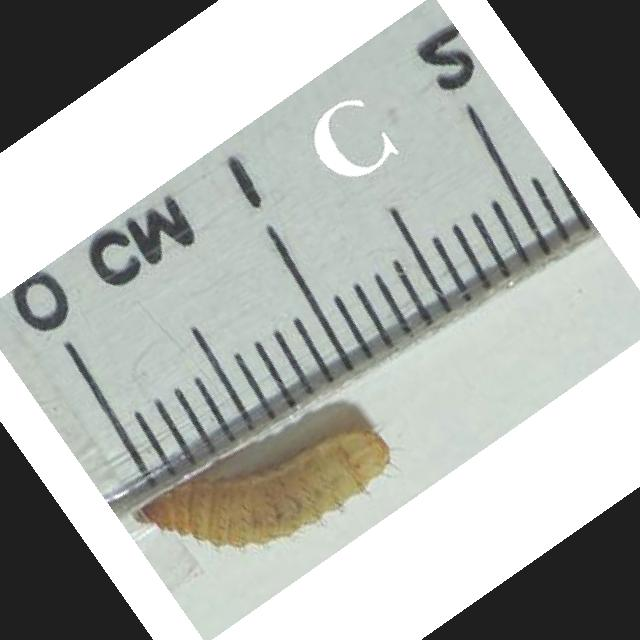Maggot: (135, 424, 392, 544)
